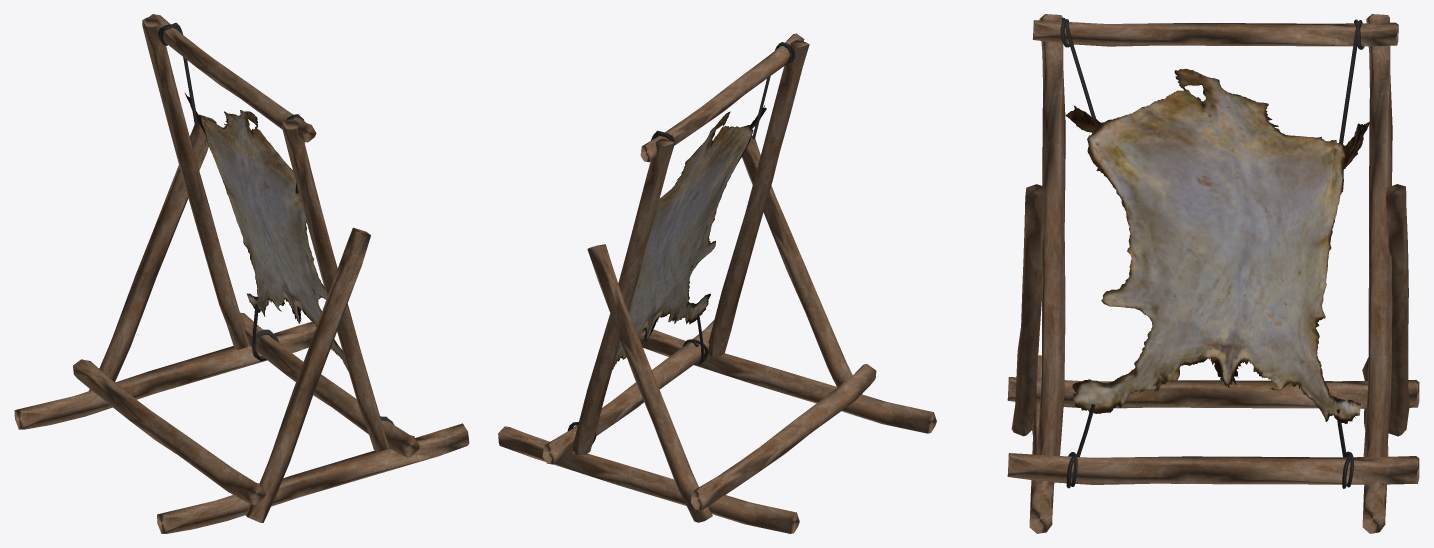
The model's file is SM_Deri_1.fbx.
3 views of the same model, side by side, from view 1: azimuth 30°, elevation 25°; view 2: azimuth 150°, elevation 25°; view 3: azimuth 270°, elevation 25° (orthographic). The views are drawn at different scales.
Parts seen in each view (by area): view 1: OBJ_Deri_1; view 2: OBJ_Deri_1; view 3: OBJ_Deri_1.
Part boxes in pixels (<box>): OBJ_Deri_1: <box>14,14,469,533</box>; OBJ_Deri_1: <box>498,33,936,533</box>; OBJ_Deri_1: <box>1007,14,1419,533</box>.
Bounding box in the file's own units: 117 × 140 × 129.
